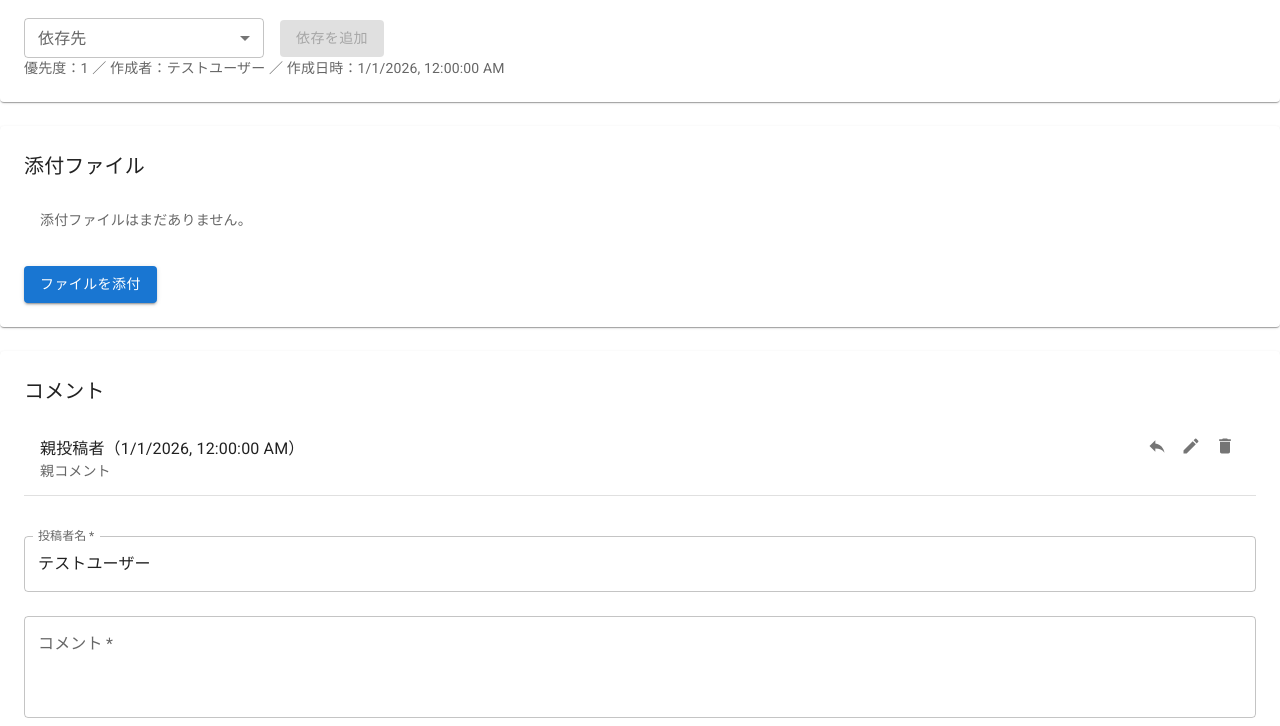
BacklogItemDetail › コメントスレッド表示 › 子返信がないコメントの編集ボタンをクリックしたとき、編集モードになる
The image size is (1280, 726).
(page scrolled)
Check: the text "親コメント" is shown, box [40,463,111,479]
# 編集ボタンをクリック
Click the button named "編集". click: point(1191, 446)
box: [1176,431,1206,461]
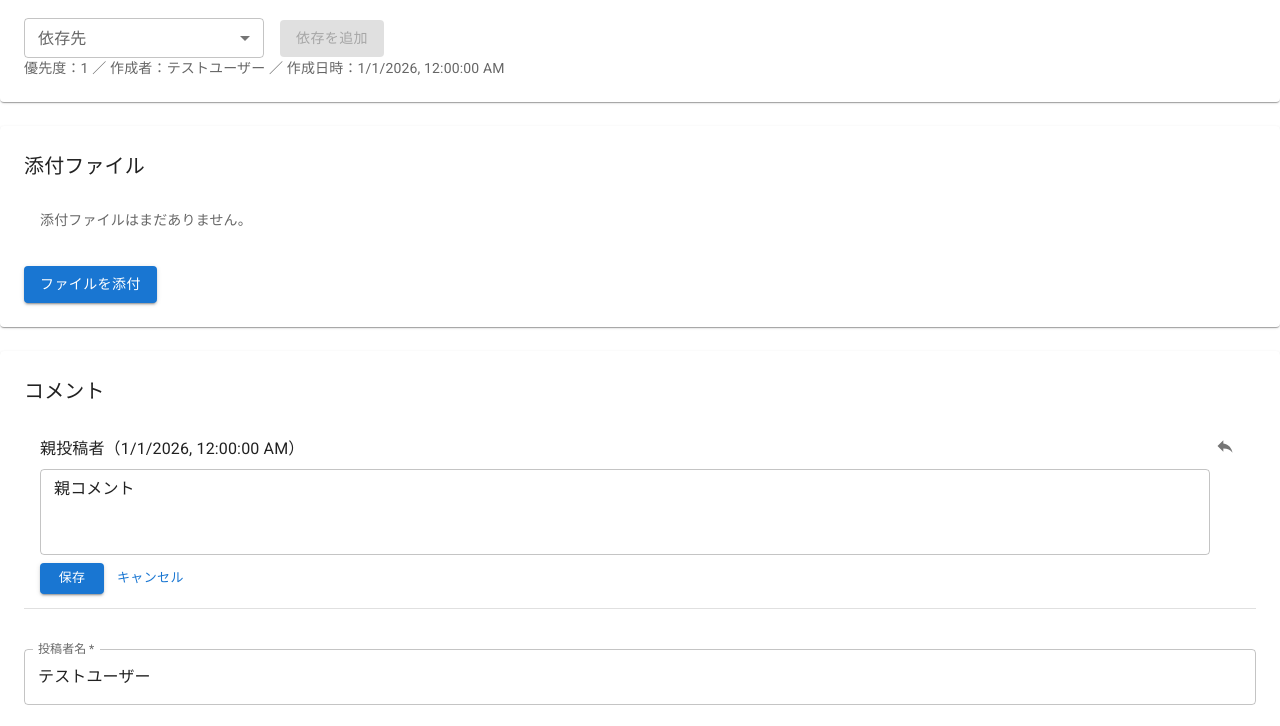
Check: the element with test id "edit-comment-textarea" is shown, box [40,469,1210,555]
